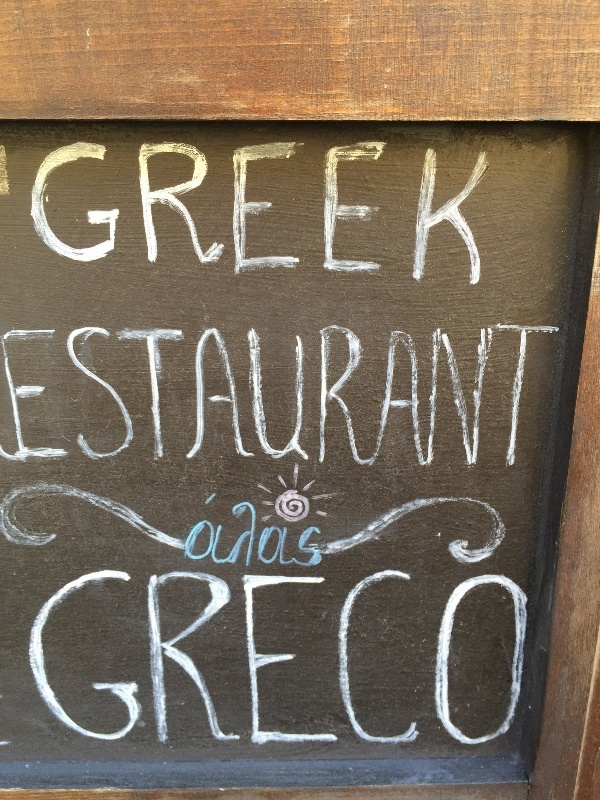text: (33, 555, 48, 754), (49, 555, 64, 754), (65, 555, 80, 754), (81, 555, 96, 754), (97, 555, 112, 754), (113, 555, 128, 754), (129, 555, 144, 754), (145, 555, 160, 754), (161, 555, 176, 754), (177, 555, 192, 754), (193, 555, 208, 754), (209, 555, 224, 754), (225, 555, 240, 754), (241, 555, 256, 754), (257, 555, 272, 754), (273, 555, 288, 754), (289, 555, 304, 754), (305, 555, 320, 754), (321, 555, 336, 754), (337, 555, 352, 754), (353, 555, 368, 754), (369, 555, 384, 754), (385, 555, 400, 754), (401, 555, 416, 754), (417, 555, 432, 754), (433, 555, 448, 754), (449, 555, 464, 754), (465, 555, 480, 754), (481, 555, 496, 754), (497, 555, 512, 754), (513, 555, 528, 754), (529, 555, 544, 754), (17, 316, 32, 483), (33, 316, 48, 483), (49, 316, 64, 483), (65, 316, 80, 483), (81, 316, 96, 483), (97, 316, 112, 483), (113, 316, 128, 483), (129, 316, 144, 483), (145, 316, 160, 483), (161, 316, 176, 483), (177, 316, 192, 483), (193, 316, 208, 483), (209, 316, 224, 483), (225, 316, 240, 483), (241, 316, 256, 483), (257, 316, 272, 483), (273, 316, 288, 483), (289, 316, 304, 483), (305, 316, 320, 483), (321, 316, 336, 483), (337, 316, 352, 483), (353, 316, 368, 483), (369, 316, 384, 483), (385, 316, 400, 483), (401, 316, 416, 483), (417, 316, 432, 483), (433, 316, 448, 483), (449, 316, 464, 483), (465, 316, 480, 483), (481, 316, 496, 483), (497, 316, 512, 483), (513, 316, 528, 483), (529, 316, 544, 483), (545, 316, 560, 483), (33, 136, 48, 299), (49, 136, 64, 299), (65, 136, 80, 299), (81, 136, 96, 299), (97, 136, 112, 299), (113, 136, 128, 299), (129, 136, 144, 299), (145, 136, 160, 299), (161, 136, 176, 299), (177, 136, 192, 299), (193, 136, 208, 299), (209, 136, 224, 299), (225, 136, 240, 299), (241, 136, 256, 299), (257, 136, 272, 299), (273, 136, 288, 299), (289, 136, 304, 299), (305, 136, 320, 299), (321, 136, 336, 299), (337, 136, 352, 299), (353, 136, 368, 299), (369, 136, 384, 299), (385, 136, 400, 299), (401, 136, 416, 299), (417, 136, 432, 299), (433, 136, 448, 299), (449, 136, 464, 299), (465, 136, 480, 299), (2, 316, 16, 483), (481, 136, 494, 299), (209, 483, 224, 578), (225, 483, 240, 578), (241, 483, 256, 578), (257, 483, 272, 578), (273, 483, 288, 578), (289, 483, 304, 578), (305, 483, 320, 578), (561, 316, 569, 483), (27, 555, 32, 754), (198, 483, 208, 578), (321, 483, 327, 578)
